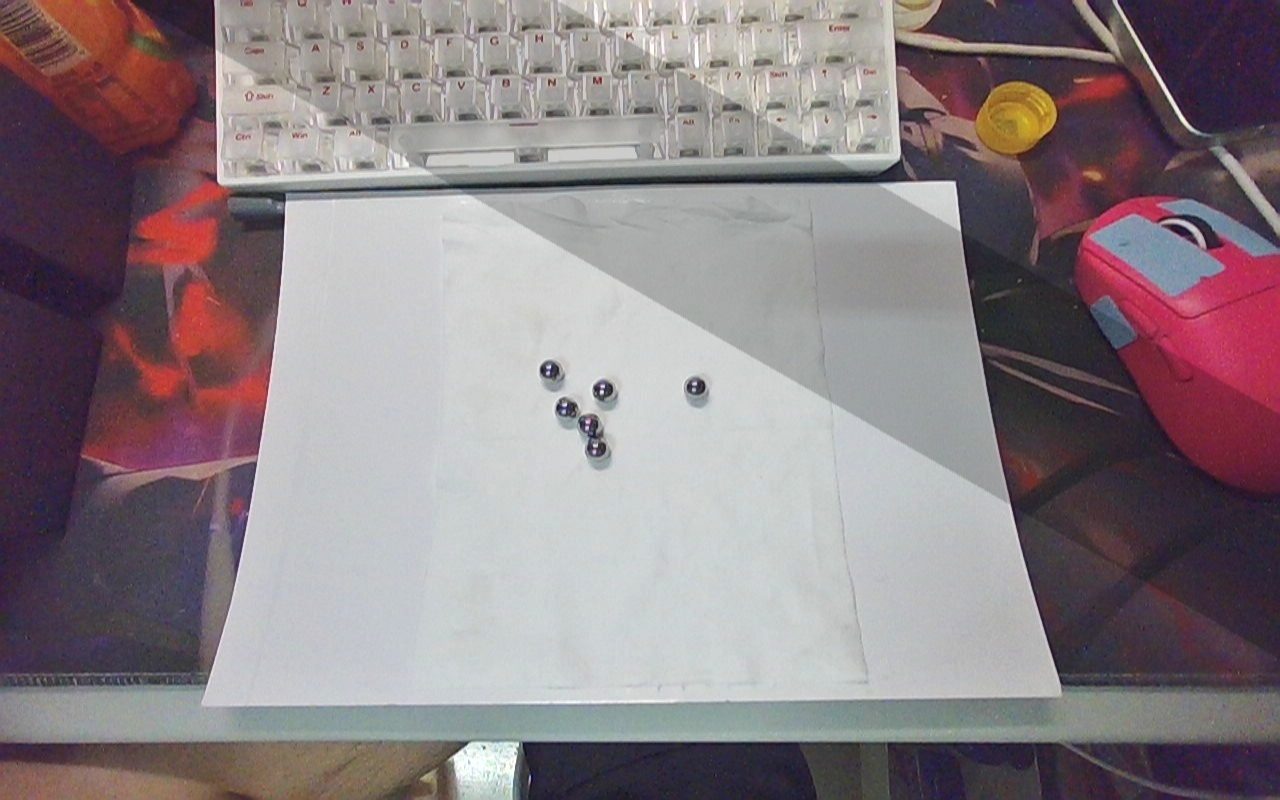ball: (590, 375, 619, 406), (681, 372, 710, 403), (582, 434, 613, 463), (538, 358, 566, 389), (577, 411, 605, 440), (555, 394, 580, 422)
